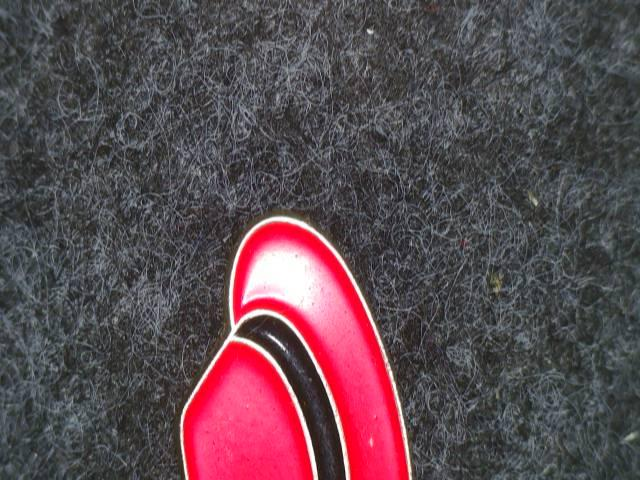Red-Hat: (142, 196, 456, 480)
